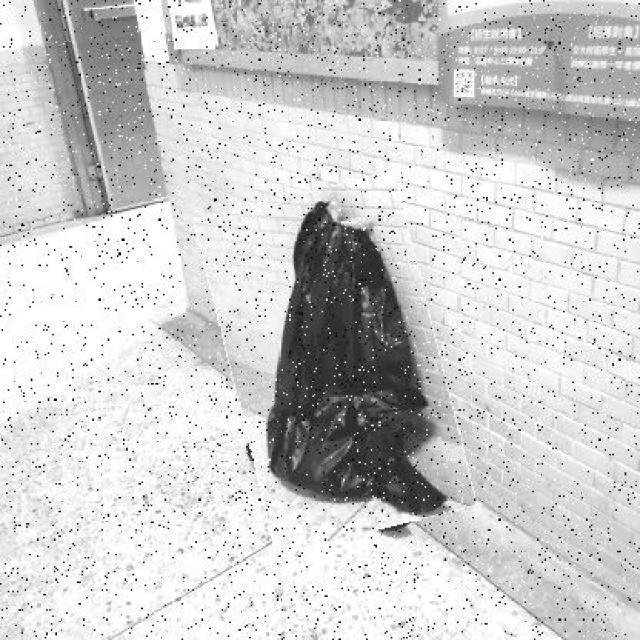waste: (213, 180, 458, 545)
